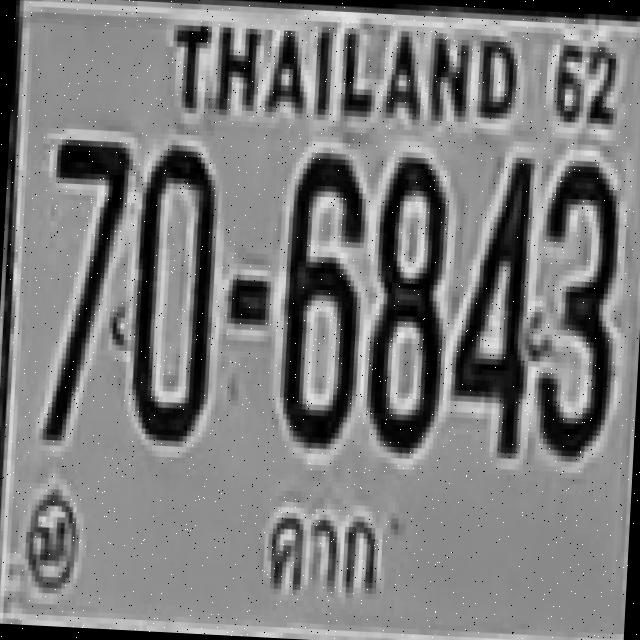0: (126, 140, 218, 440)
3: (528, 156, 618, 455)
4: (448, 150, 536, 453)
6: (278, 146, 365, 445)
7: (40, 133, 130, 438), (41, 133, 130, 394), (44, 133, 130, 340)
8: (361, 150, 448, 450)
Tak: (260, 499, 388, 607)
